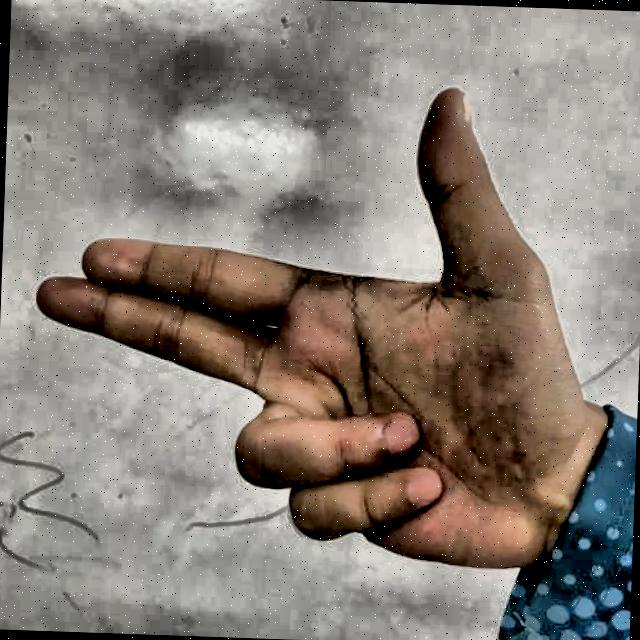Jha: (12, 38, 616, 632)
